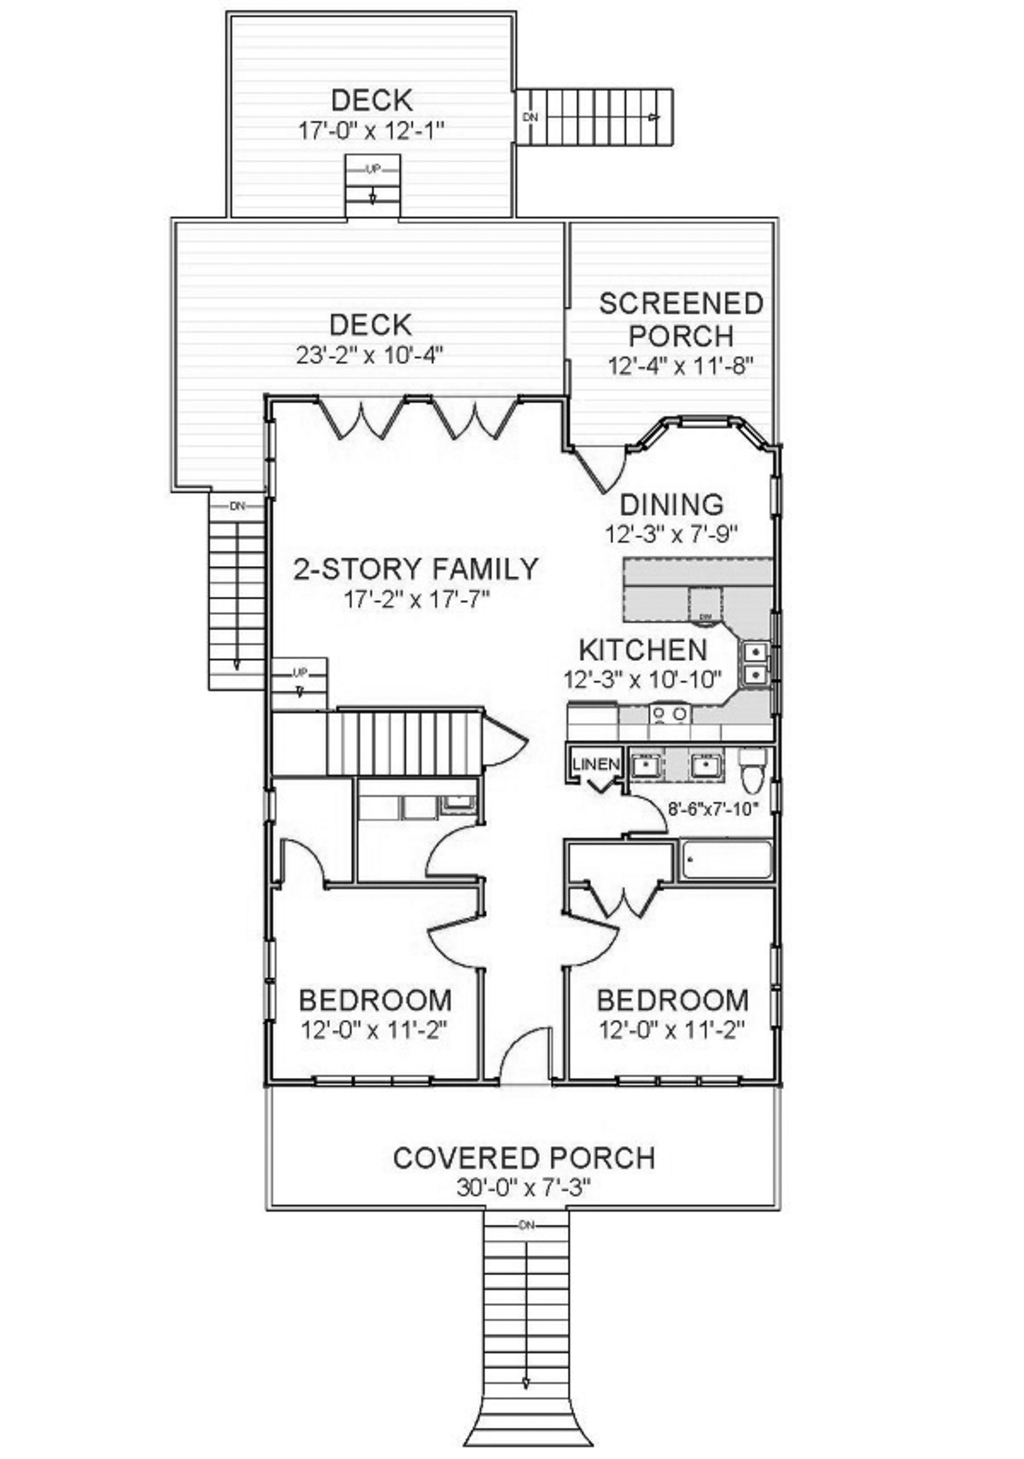door: (304, 377, 400, 449), (422, 902, 506, 966), (573, 433, 649, 502), (584, 875, 673, 933), (431, 389, 526, 440), (475, 1016, 551, 1080), (417, 824, 495, 875), (557, 917, 619, 971), (477, 717, 529, 773), (273, 837, 331, 886), (619, 797, 677, 840)
large_sink: (735, 753, 774, 793)
small_sink: (619, 749, 757, 773)
stairs: (449, 1200, 610, 1457), (199, 484, 346, 710), (504, 67, 702, 144), (329, 137, 422, 233)
twin_sink: (720, 635, 786, 697)
window: (666, 414, 797, 509), (752, 935, 803, 1040), (311, 1062, 446, 1093), (249, 929, 291, 1026), (615, 1064, 743, 1095)
